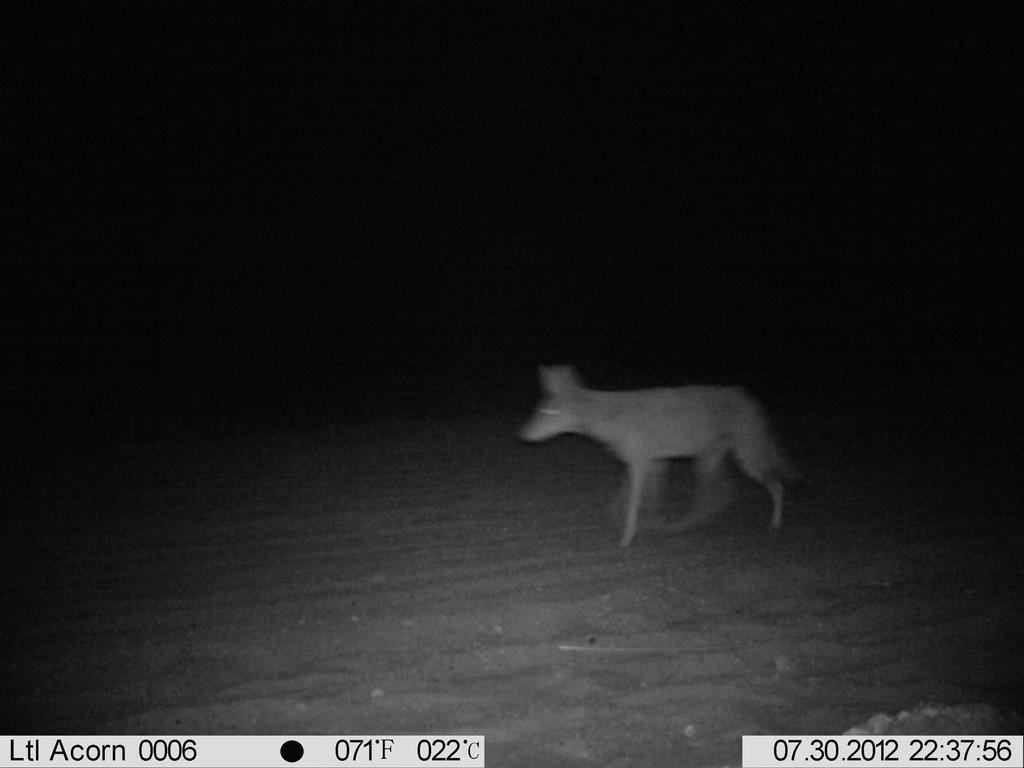coyote: (511, 359, 808, 555)
